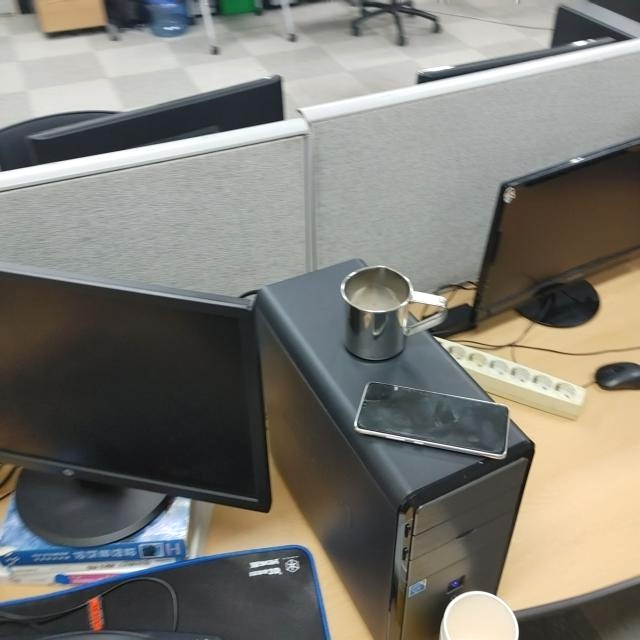cup: (341, 264, 446, 359)
phone: (353, 382, 509, 462)
